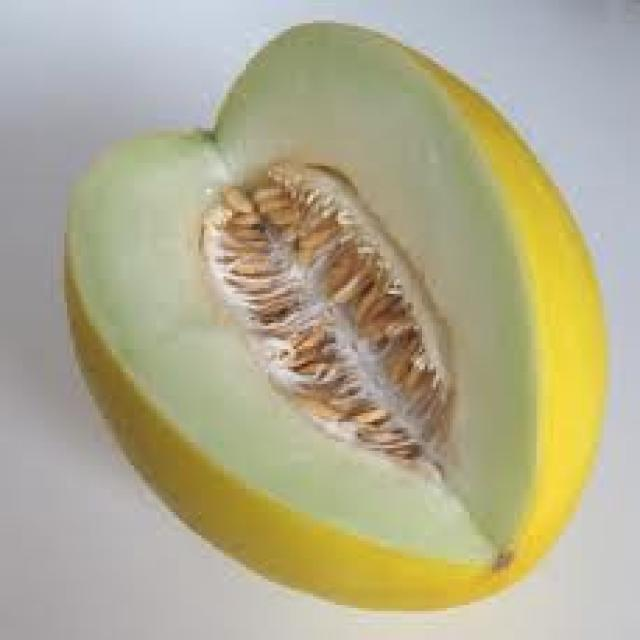melon: (31, 9, 598, 608)
